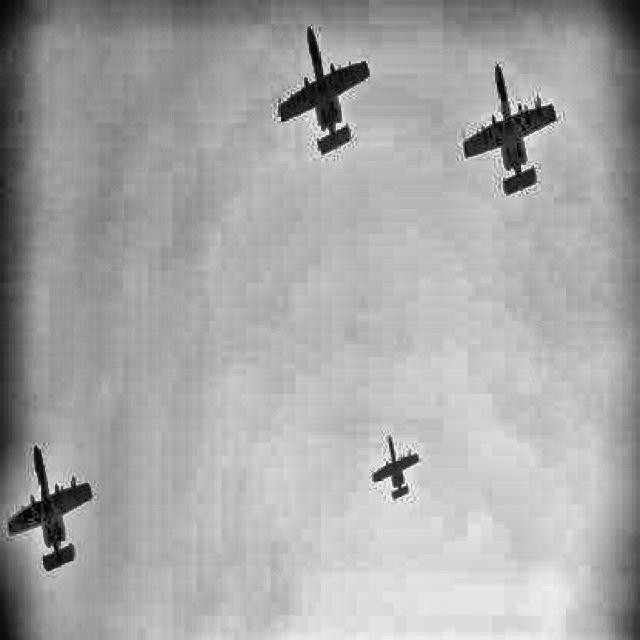A10: (463, 64, 557, 196), (278, 26, 370, 156), (6, 446, 92, 572), (372, 435, 419, 499)
